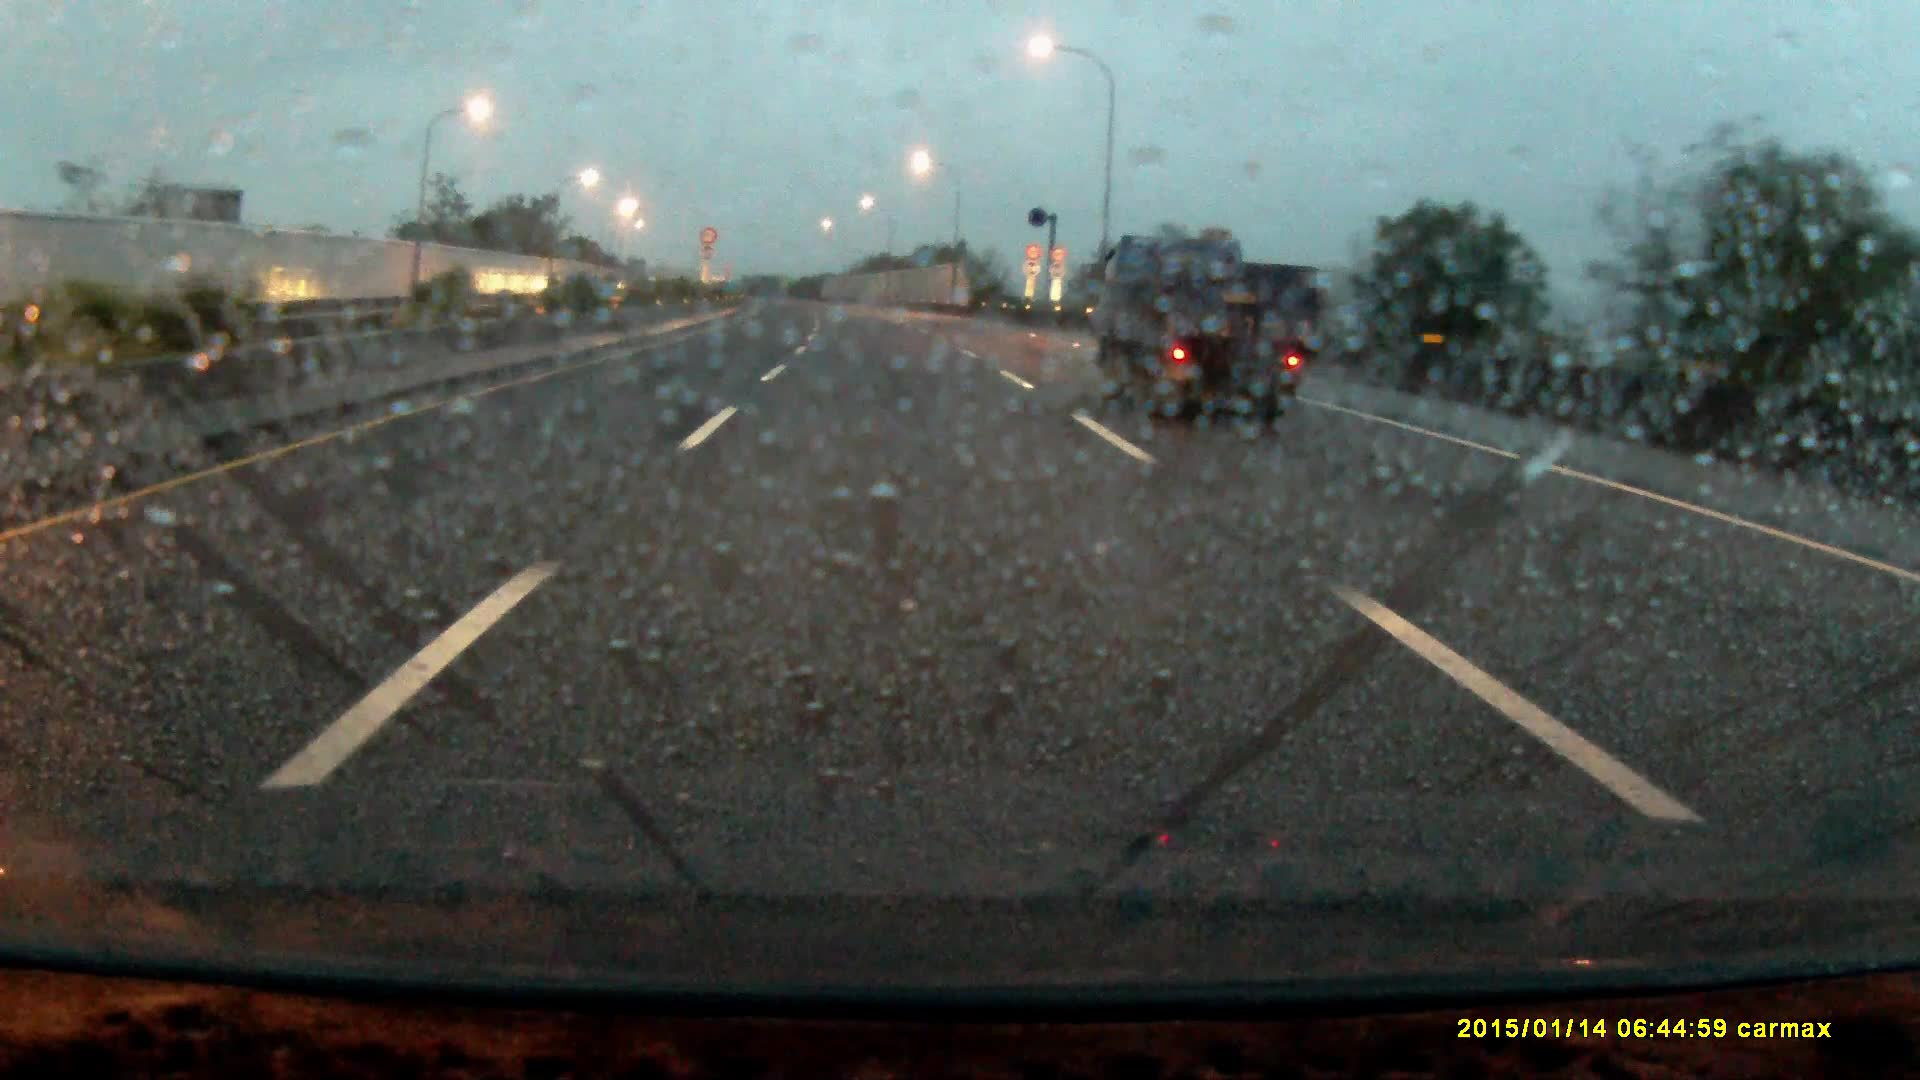vehicle: (1095, 241, 1313, 419)
